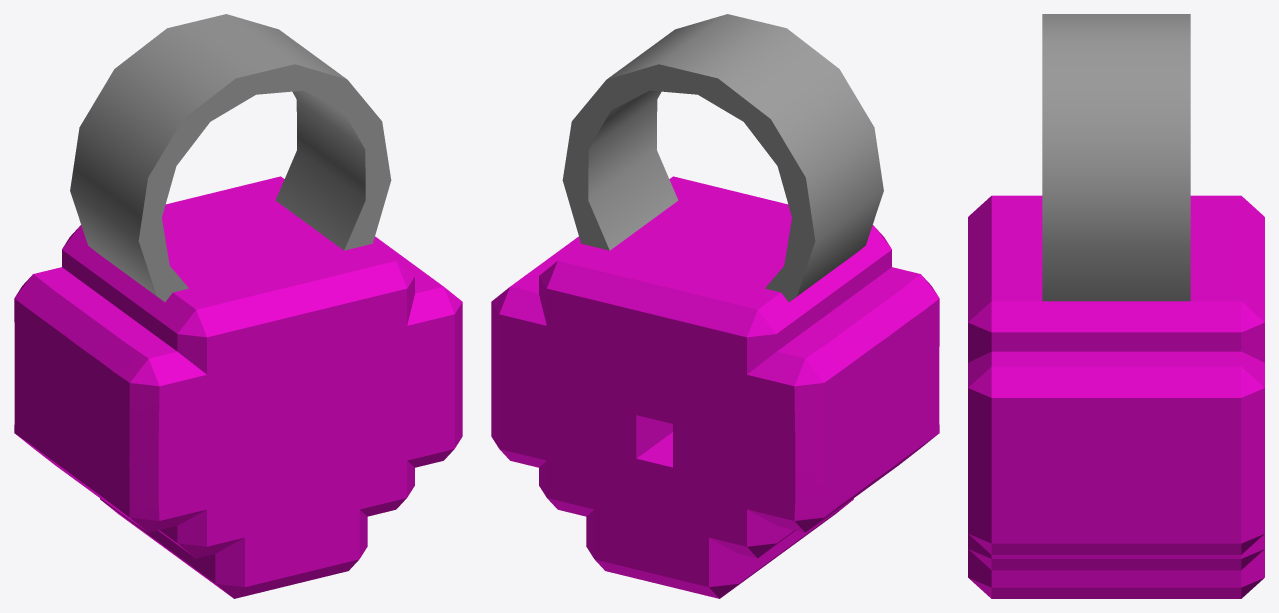
Rendered from Lock_Closed_Pink.fbx.
The picture shows the model from 3 angles, left to right: view 1: azimuth 30°, elevation 25°; view 2: azimuth 150°, elevation 25°; view 3: azimuth 270°, elevation 25°; orthographic projection. The views are drawn at different scales.
Visible parts, largest first — view 1: Lock_Closed_Pink; view 2: Lock_Closed_Pink; view 3: Lock_Closed_Pink.
Boxes of the visible parts, left/top/right/bottom form: Lock_Closed_Pink: left=14, top=14, right=462, bottom=598; Lock_Closed_Pink: left=491, top=14, right=939, bottom=598; Lock_Closed_Pink: left=968, top=14, right=1264, bottom=598.
Bounding box in the file's own units: 7 × 9.99 × 5.
